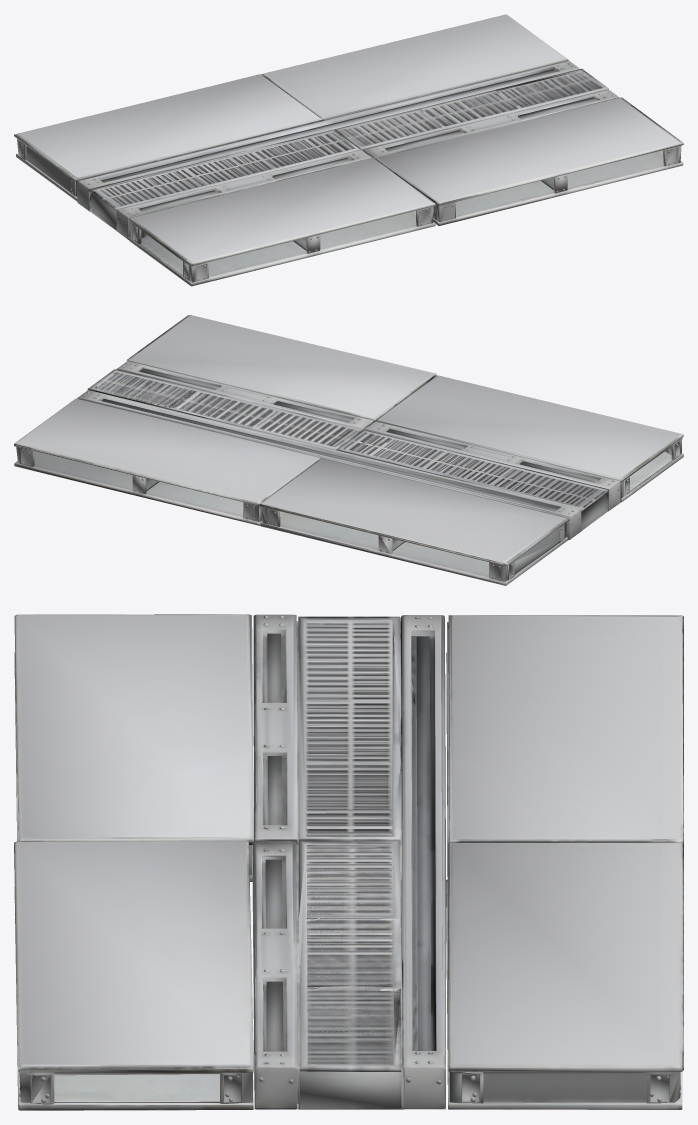
Rendered from tripo_convert_12464939-6881-43b5-a478-da0ffe86ad59.fbx.
The picture shows the model from 3 angles, top to bottom: view 1: azimuth 30°, elevation 25°; view 2: azimuth 150°, elevation 25°; view 3: azimuth 270°, elevation 25°; orthographic projection. The views are drawn at different scales.
Visible parts, largest first — view 1: tripo_part_19, tripo_part_21, tripo_part_20, tripo_part_18, tripo_part_16, tripo_part_4, tripo_part_1, tripo_part_23, tripo_part_24, tripo_part_14, tripo_part_2, tripo_part_0 (+2 smaller); view 2: tripo_part_20, tripo_part_18, tripo_part_19, tripo_part_21, tripo_part_16, tripo_part_4, tripo_part_1, tripo_part_27, tripo_part_198, tripo_part_14, tripo_part_2, tripo_part_48 (+4 smaller); view 3: tripo_part_19, tripo_part_18, tripo_part_21, tripo_part_20, tripo_part_16, tripo_part_4, tripo_part_1, tripo_part_2, tripo_part_14, tripo_part_24, tripo_part_3, tripo_part_207 (+4 smaller).
Part boxes in pixels (x1,y1,x2,y2): tripo_part_19: (375,97,683,205); tripo_part_21: (128,158,435,266); tripo_part_20: (14,74,323,181); tripo_part_18: (261,14,568,120); tripo_part_16: (89,129,360,230); tripo_part_4: (77,61,579,211); tripo_part_1: (334,68,608,150); tripo_part_23: (129,210,435,286); tripo_part_24: (433,150,683,225); tripo_part_14: (116,149,371,239); tripo_part_2: (139,89,619,209); tripo_part_0: (130,222,208,282); tripo_part_20: (259,458,569,565); tripo_part_18: (14,398,320,505); tripo_part_19: (126,315,436,421); tripo_part_21: (376,375,683,481); tripo_part_16: (337,429,608,530); tripo_part_4: (77,390,581,539); tripo_part_1: (87,369,362,450); tripo_part_27: (14,451,261,525); tripo_part_198: (261,511,567,582); tripo_part_14: (364,421,620,510); tripo_part_2: (88,361,608,511); tripo_part_48: (260,523,568,585); tripo_part_19: (14,841,253,1072); tripo_part_18: (447,842,683,1071); tripo_part_21: (14,614,253,844); tripo_part_20: (448,615,683,843); tripo_part_16: (298,616,400,842); tripo_part_4: (296,615,445,1109); tripo_part_1: (298,840,401,1071); tripo_part_2: (252,622,403,1109); tripo_part_14: (253,614,297,844); tripo_part_24: (14,886,253,1110); tripo_part_3: (483,1072,680,1103); tripo_part_207: (300,1072,401,1108).
Bounding box in the file's own units: 0.9995 × 0.0464 × 0.6226.
1 material, 1 textured.
